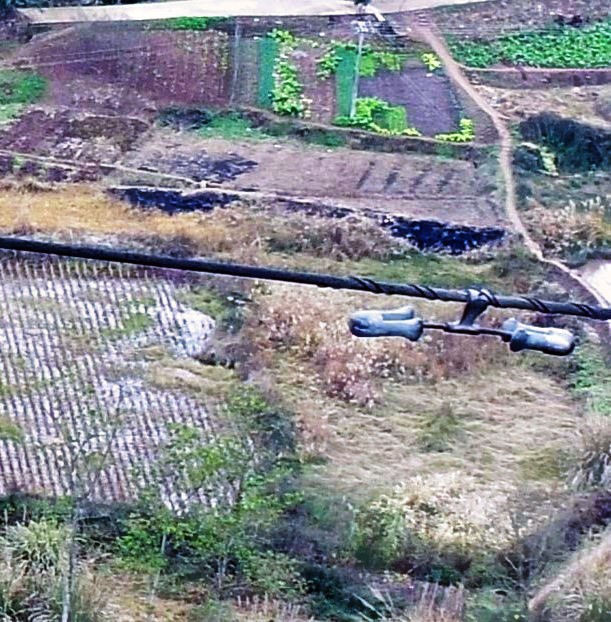Shockproof hammer: (342, 272, 580, 362)
